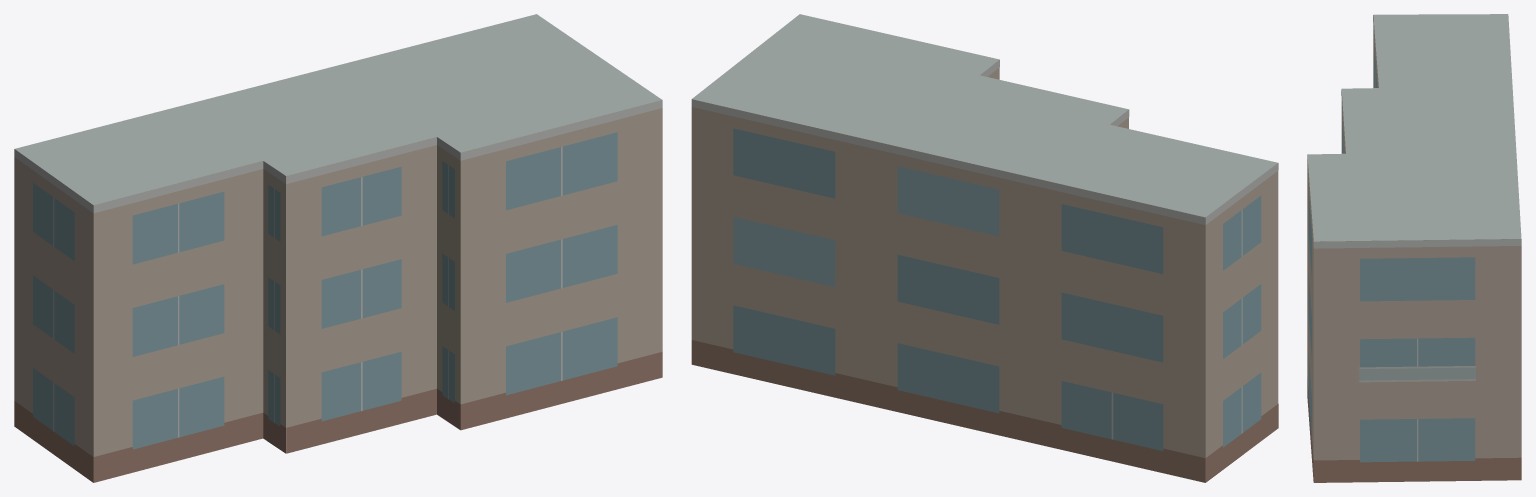
Rendered from survey-upis-32491687.glb.
The picture shows the model from 3 angles, left to right: view 1: azimuth 30°, elevation 25°; view 2: azimuth 150°, elevation 25°; view 3: azimuth 270°, elevation 25°; orthographic projection. The views are drawn at different scales.
Visible parts, largest first — view 1: survey-upis-32491687.tmp; view 2: survey-upis-32491687.tmp; view 3: survey-upis-32491687.tmp.
Boxes of the visible parts, box(x1,y1,x2,y2) form: survey-upis-32491687.tmp: box(14, 14, 662, 482); survey-upis-32491687.tmp: box(691, 14, 1278, 482); survey-upis-32491687.tmp: box(1307, 14, 1521, 482).
Bounding box in the file's own units: 16.99 × 8.4 × 6.76.
